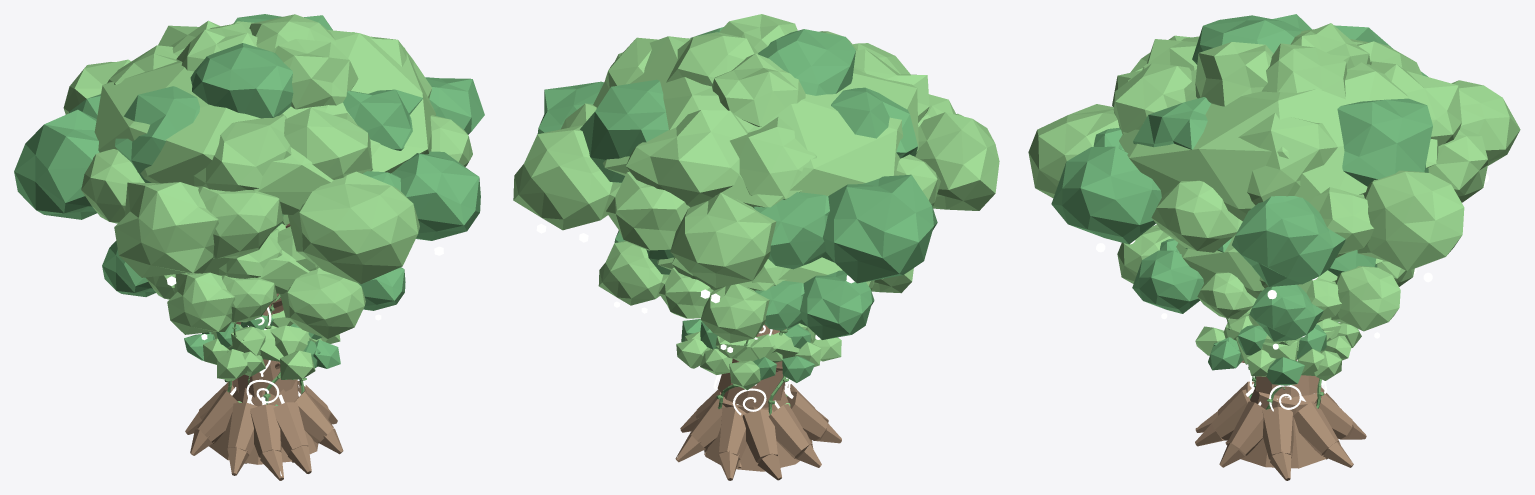
File: PTF_Ancient.fbx
The picture shows the model from 3 angles, left to right: view 1: azimuth 30°, elevation 25°; view 2: azimuth 150°, elevation 25°; view 3: azimuth 270°, elevation 25°; orthographic projection.
Parts seen in each view (by area): view 1: Ancient4_Leaves, Ancient4_LeavesDark, Ancient3_Leaves, Ancient4_Bark, Ancient2_Leaves, Ancient3_LeavesDark, Ancient2_LeavesDark; view 2: Ancient4_Leaves, Ancient4_LeavesDark, Ancient4_Bark, Ancient3_Leaves, Ancient3_LeavesDark, Ancient2_Leaves, Ancient2_LeavesDark; view 3: Ancient4_Leaves, Ancient4_LeavesDark, Ancient4_Bark, Ancient3_Leaves, Ancient3_LeavesDark, Ancient2_Leaves, Ancient2_LeavesDark.
Boxes of the visible parts, <box> form: Ancient4_Leaves: <box>63,14,472,283</box>; Ancient4_LeavesDark: <box>14,14,484,240</box>; Ancient3_Leaves: <box>146,214,365,338</box>; Ancient4_Bark: <box>185,223,343,480</box>; Ancient2_Leaves: <box>203,310,340,380</box>; Ancient3_LeavesDark: <box>102,214,405,310</box>; Ancient2_LeavesDark: <box>184,315,340,368</box>; Ancient4_Leaves: <box>513,14,999,287</box>; Ancient4_LeavesDark: <box>537,27,937,283</box>; Ancient4_Bark: <box>675,324,841,480</box>; Ancient3_Leaves: <box>598,241,913,343</box>; Ancient3_LeavesDark: <box>614,230,874,339</box>; Ancient2_Leaves: <box>676,323,841,390</box>; Ancient2_LeavesDark: <box>681,319,814,382</box>; Ancient4_Leaves: <box>1028,23,1520,271</box>; Ancient4_LeavesDark: <box>1051,14,1432,286</box>; Ancient4_Bark: <box>1195,360,1366,480</box>; Ancient3_Leaves: <box>1117,224,1414,331</box>; Ancient3_LeavesDark: <box>1132,237,1377,341</box>; Ancient2_Leaves: <box>1195,308,1361,380</box>; Ancient2_LeavesDark: <box>1208,321,1338,385</box>.
Bounding box in the file's own units: 378 × 354 × 384.
